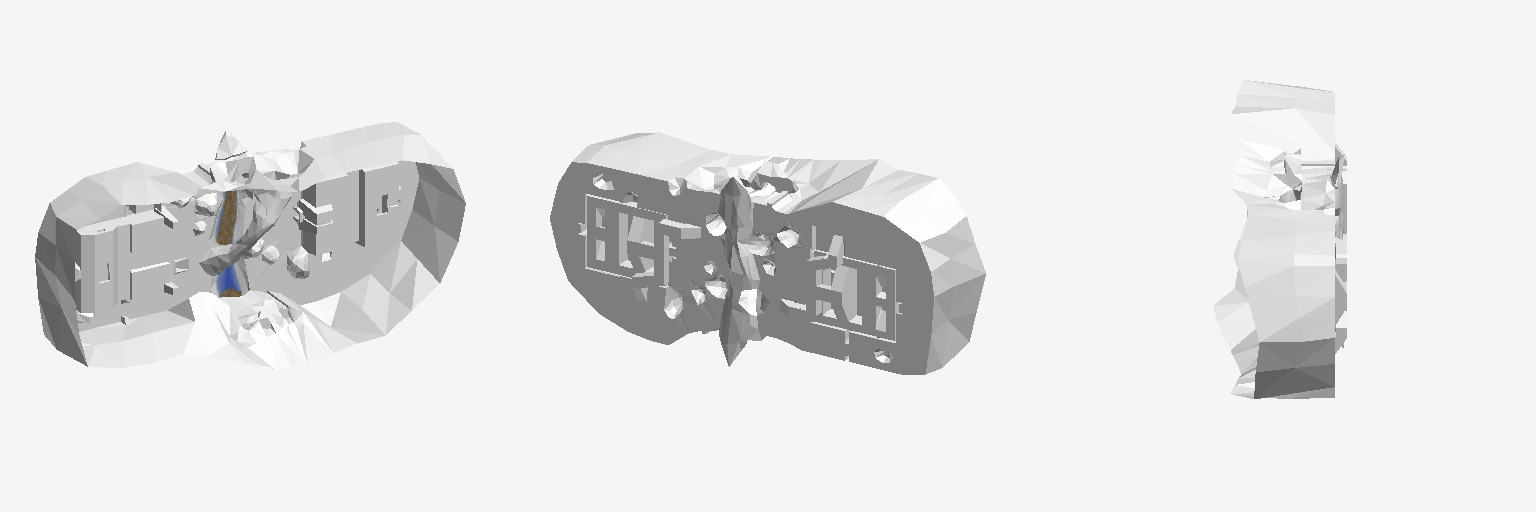
The picture shows the model from 3 angles: view 1: azimuth 30°, elevation 25°; view 2: azimuth 150°, elevation 25°; view 3: azimuth 270°, elevation 25°; orthographic projection.
Visible parts, largest first — view 1: beavercreek; view 2: beavercreek; view 3: beavercreek.
Part boxes in pixels (left/top/right/bottom): beavercreek: left=35, top=122, right=465, bottom=369; beavercreek: left=550, top=132, right=985, bottom=374; beavercreek: left=1213, top=80, right=1346, bottom=398.
Bounding box in the file's own units: 4286 × 2110 × 1244.
Materials: 18 (1 with a texture image).